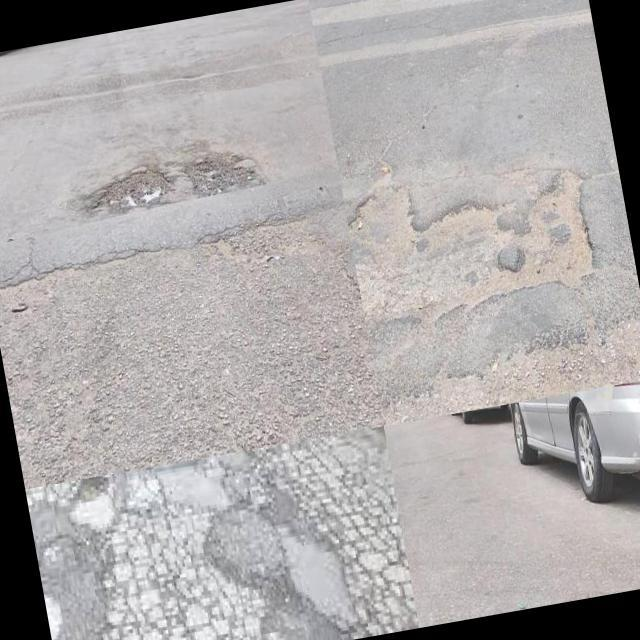Pothole: (347, 161, 596, 333), (92, 165, 167, 218), (39, 569, 90, 640), (187, 153, 257, 194), (72, 475, 108, 504)
